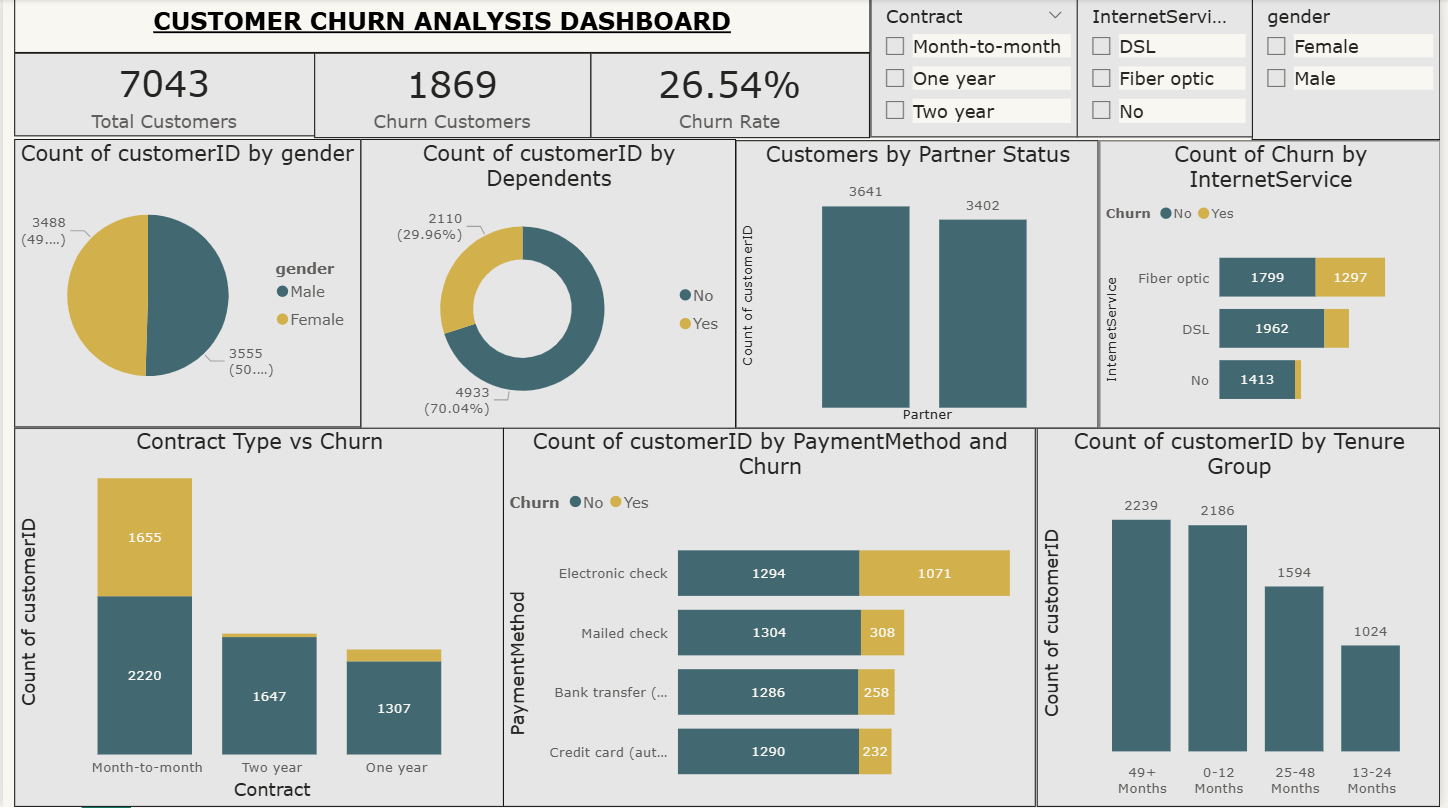

What the dashboard file says about the page in this screenshot:
{"tool":"powerbi","page":{"name":"Page 1","canvas":[1280,720],"ordinal":0},"visuals":[{"type":"card","fields":{"Values":["Telco_Customer_Churn_Dataset  (2) (1).Total Customers"]},"box":[9.7,48.3,267.8,74.8],"z":0},{"type":"card","fields":{"Values":["Telco_Customer_Churn_Dataset  (2) (1).Churn Customers"]},"box":[277.5,48.3,246.1,76],"z":1},{"type":"card","fields":{"Values":["Telco_Customer_Churn_Dataset  (2) (1).Churn Rate"]},"box":[523.6,48.3,248.5,76],"z":2},{"type":"pieChart","fields":{"Category":["Telco_Customer_Churn_Dataset  (2) (1).gender"],"Y":["CountNonNull(Telco_Customer_Churn_Dataset  (2) (1).customerID)"]},"box":[9.7,124.3,308.8,257],"z":3},{"type":"columnChart","title":"Customers by Partner Status","fields":{"Category":["Telco_Customer_Churn_Dataset  (2) (1).Partner"],"Y":["CountNonNull(Telco_Customer_Churn_Dataset  (2) (1).customerID)"]},"box":[652.7,125.5,323.3,257],"z":4},{"type":"donutChart","fields":{"Category":["Telco_Customer_Churn_Dataset  (2) (1).Dependents"],"Y":["CountNonNull(Telco_Customer_Churn_Dataset  (2) (1).customerID)"]},"box":[318.5,124.3,334.2,258.2],"z":5},{"type":"columnChart","title":"Contract Type vs Churn","fields":{"Category":["Telco_Customer_Churn_Dataset  (2) (1).Contract"],"Series":["Telco_Customer_Churn_Dataset  (2) (1).Churn"],"Y":["CountNonNull(Telco_Customer_Churn_Dataset  (2) (1).customerID)"]},"box":[10.1,382.3,435.7,337.6],"z":6},{"type":"barChart","fields":{"Category":["Telco_Customer_Churn_Dataset  (2) (1).PaymentMethod"],"Series":["Telco_Customer_Churn_Dataset  (2) (1).Churn"],"Y":["CountNonNull(Telco_Customer_Churn_Dataset  (2) (1).customerID)"]},"box":[445.8,382.3,474.7,337.6],"z":7},{"type":"barChart","title":"Count of Churn by InternetService","fields":{"Category":["Telco_Customer_Churn_Dataset  (2) (1).InternetService"],"Series":["Telco_Customer_Churn_Dataset  (2) (1).Churn"],"Y":["CountNonNull(Telco_Customer_Churn_Dataset  (2) (1).customerID)"]},"box":[976,125.5,304,257],"z":8},{"type":"slicer","fields":{"Values":["Telco_Customer_Churn_Dataset  (2) (1).gender"]},"box":[1112.3,0,167.7,125.5],"z":9},{"type":"slicer","fields":{"Values":["Telco_Customer_Churn_Dataset  (2) (1).Contract"]},"box":[772.1,0,184.6,123.1],"z":10},{"type":"slicer","fields":{"Values":["Telco_Customer_Churn_Dataset  (2) (1).InternetService"]},"box":[956.3,0,156.5,123.5],"z":11},{"type":"clusteredColumnChart","fields":{"Category":["Telco_Customer_Churn_Dataset  (2) (1).Tenure Group"],"Y":["CountNonNull(Telco_Customer_Churn_Dataset  (2) (1).customerID)"]},"box":[920.5,382.3,359.2,337.6],"z":12},{"type":"textbox","box":[9.7,0,762.5,48.3],"z":13}]}

Visuals, with their boxes in screenshot pixels (x1, y1, x2, y2), scaled from the page's 1280x720 canvas onto the 1448x808 screenshot:
card - Telco_Customer_Churn_Dataset  (2) (1).Total Customers: box=[11, 54, 314, 138]
card - Telco_Customer_Churn_Dataset  (2) (1).Churn Customers: box=[314, 54, 592, 139]
card - Telco_Customer_Churn_Dataset  (2) (1).Churn Rate: box=[592, 54, 873, 139]
pieChart - Telco_Customer_Churn_Dataset  (2) (1).gender x CountNonNull(Telco_Customer_Churn_Dataset  (2) (1).customerID): box=[11, 139, 360, 428]
"Customers by Partner Status" columnChart: box=[738, 141, 1104, 429]
donutChart - Telco_Customer_Churn_Dataset  (2) (1).Dependents x CountNonNull(Telco_Customer_Churn_Dataset  (2) (1).customerID): box=[360, 139, 738, 429]
"Contract Type vs Churn" columnChart: box=[11, 429, 504, 807]
barChart - Telco_Customer_Churn_Dataset  (2) (1).PaymentMethod x Telco_Customer_Churn_Dataset  (2) (1).Churn: box=[504, 429, 1041, 807]
"Count of Churn by InternetService" barChart: box=[1104, 141, 1447, 429]
slicer - Telco_Customer_Churn_Dataset  (2) (1).gender: box=[1258, 0, 1447, 141]
slicer - Telco_Customer_Churn_Dataset  (2) (1).Contract: box=[873, 0, 1082, 138]
slicer - Telco_Customer_Churn_Dataset  (2) (1).InternetService: box=[1082, 0, 1259, 139]
clusteredColumnChart - Telco_Customer_Churn_Dataset  (2) (1).Tenure Group x CountNonNull(Telco_Customer_Churn_Dataset  (2) (1).customerID): box=[1041, 429, 1447, 807]
textbox: box=[11, 0, 874, 54]
